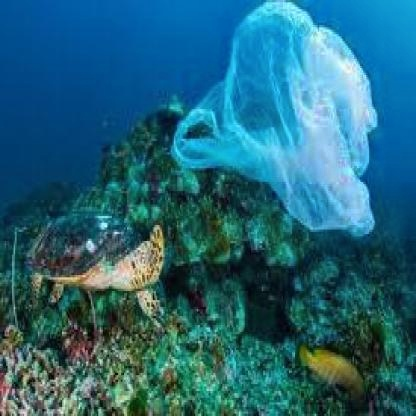pbag: (171, 2, 380, 236)
